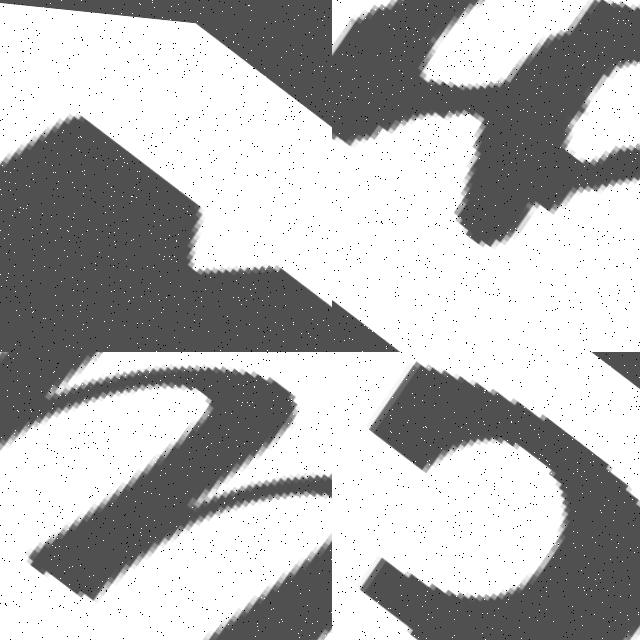3: (332, 352, 640, 640)
M: (0, 352, 332, 640)
W: (332, 0, 640, 350)
X: (0, 0, 332, 352)
